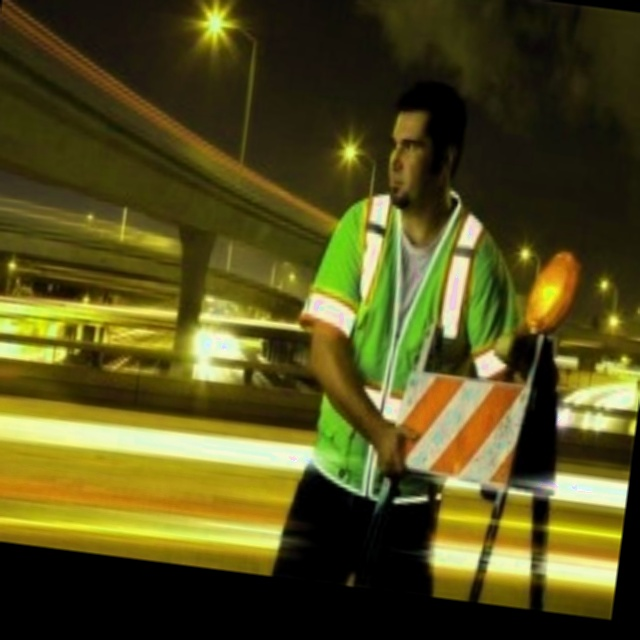Con_Chaleco: (314, 192, 487, 513)
Sin_Casco_Mascarrilla: (382, 88, 470, 201)
